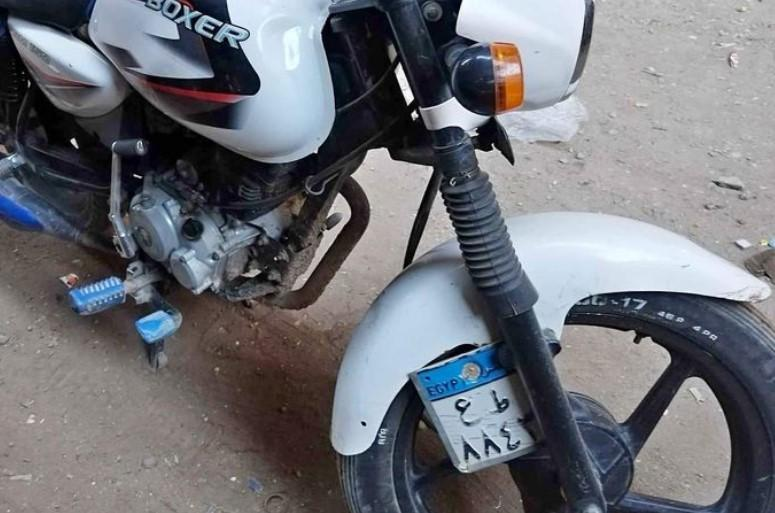License Plate: (409, 344, 543, 470)
